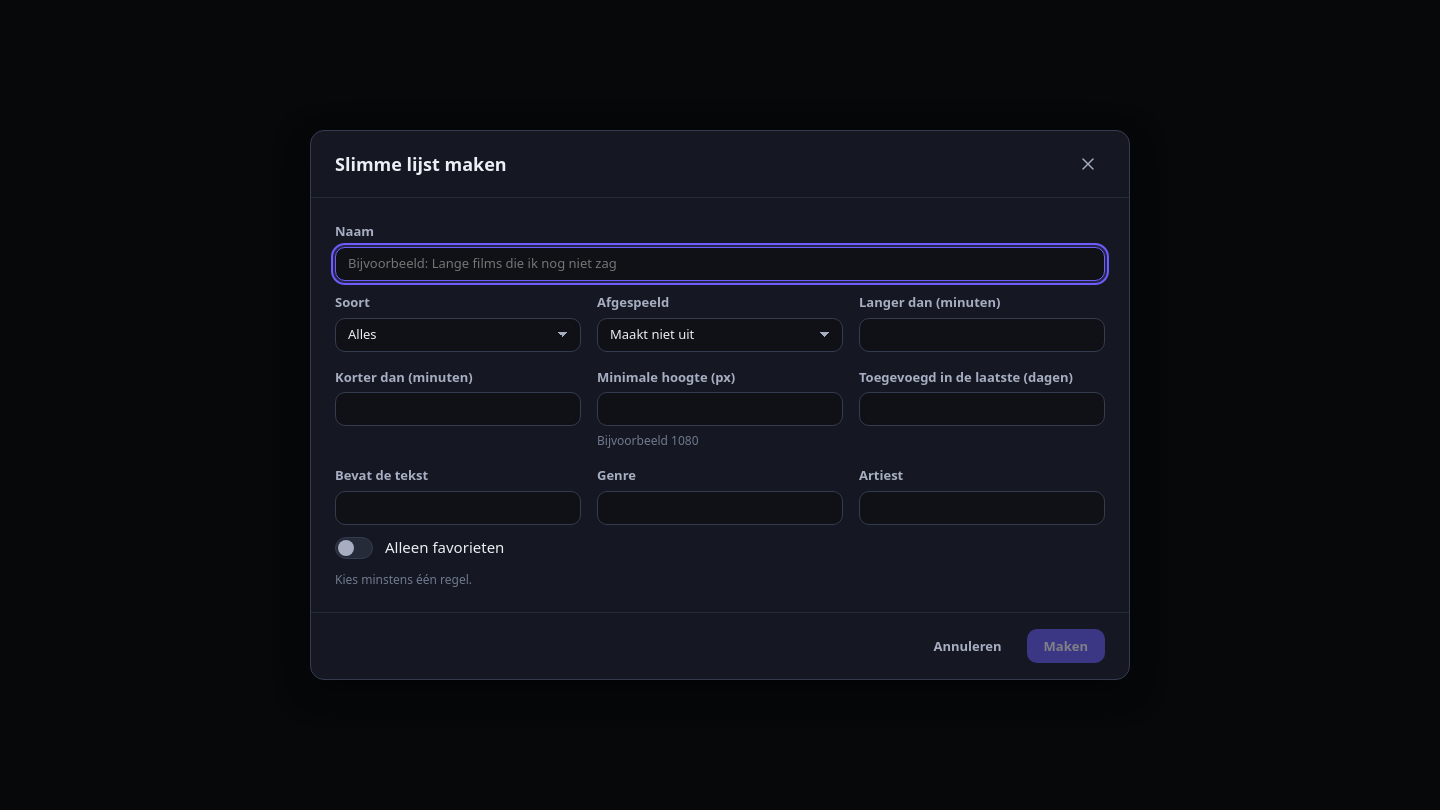
Test: SmartListDialog › maakt pas een lijst met een naam én minstens één regel
Expected: the button "Maken" is disabled, [1027,629,1105,663]
Type "Lang" into the field labelled "Naam" at (720, 264), box [335,247,1105,281]
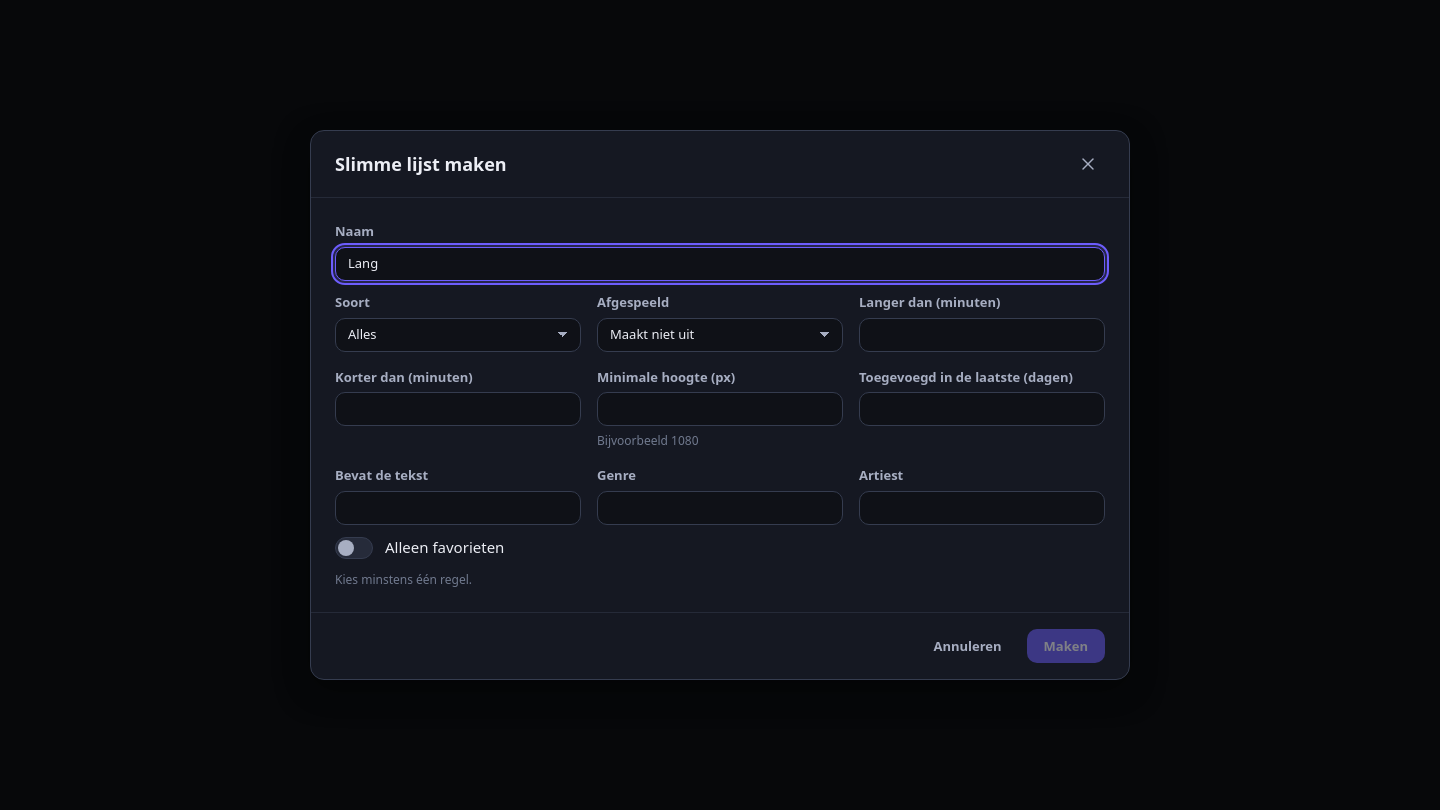
Expected: the button "Maken" is disabled, [1027,629,1105,663]
Type "120" into the field labelled "Langer dan (minuten)" at (982, 335), box [859,318,1105,352]
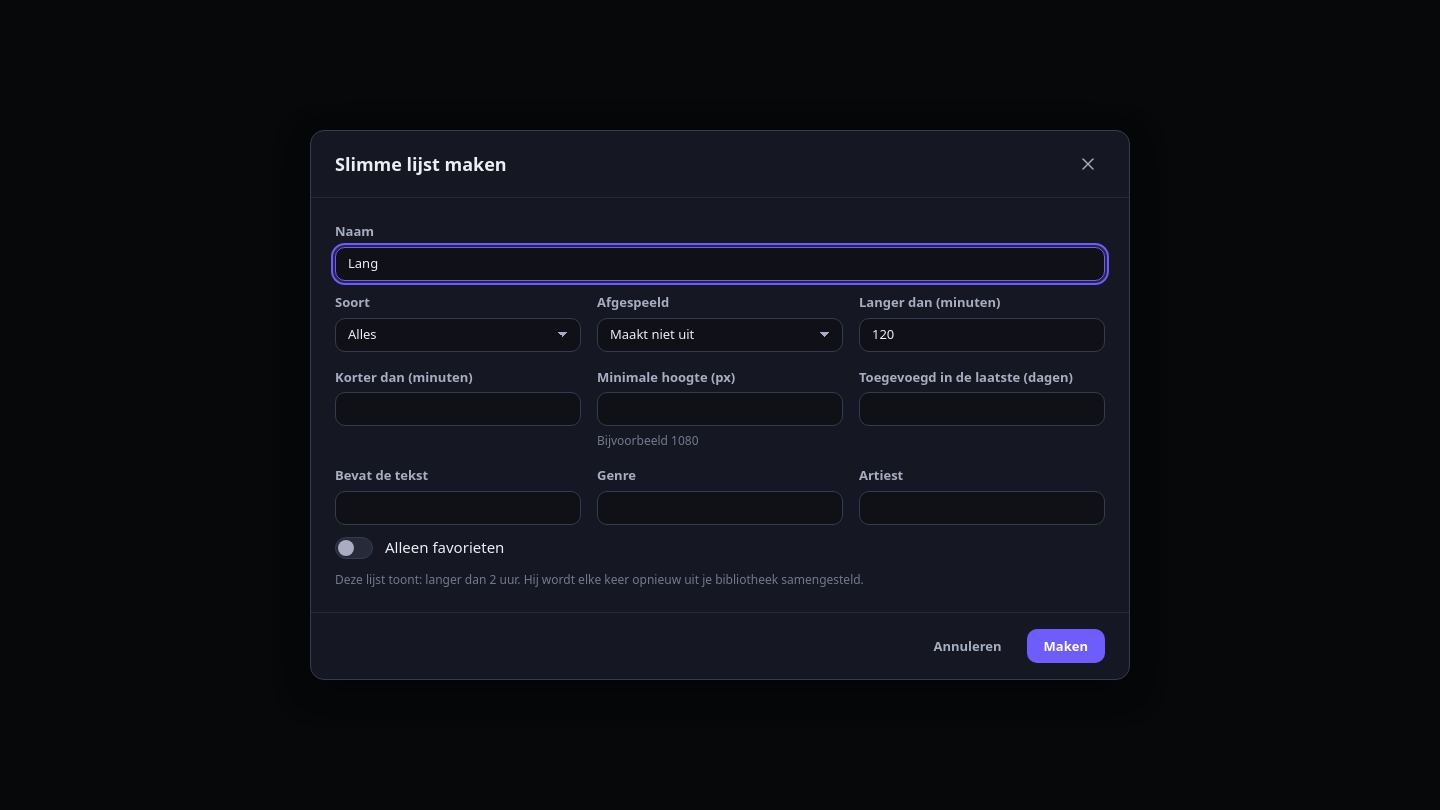
Result: the button "Maken" is enabled at [1027,629,1105,663]
Result: the message shows "langer dan 2 uur" at [335,571,864,588]
